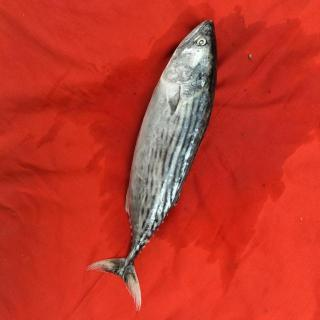Ikan: (80, 18, 224, 312)
